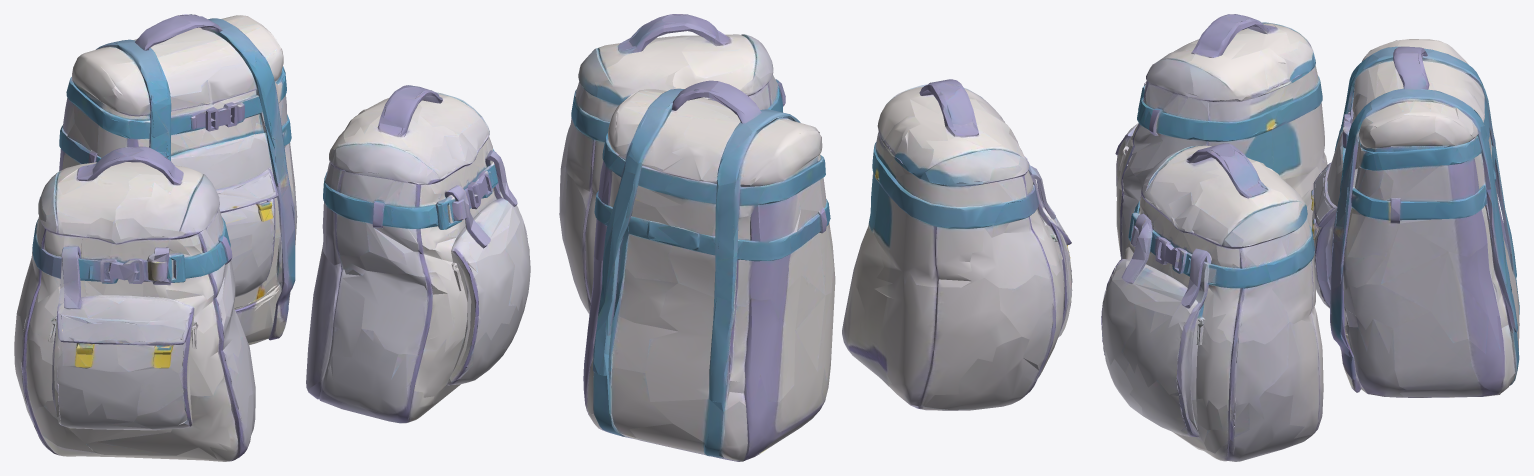
File: stowage-bags.gltf
The picture shows the model from 3 angles, left to right: view 1: azimuth 30°, elevation 25°; view 2: azimuth 150°, elevation 25°; view 3: azimuth 270°, elevation 25°; orthographic projection. The views are drawn at different scales.
Bounding box in the file's own units: 1.9 × 1.23 × 1.47.
1 material, 1 textured.
